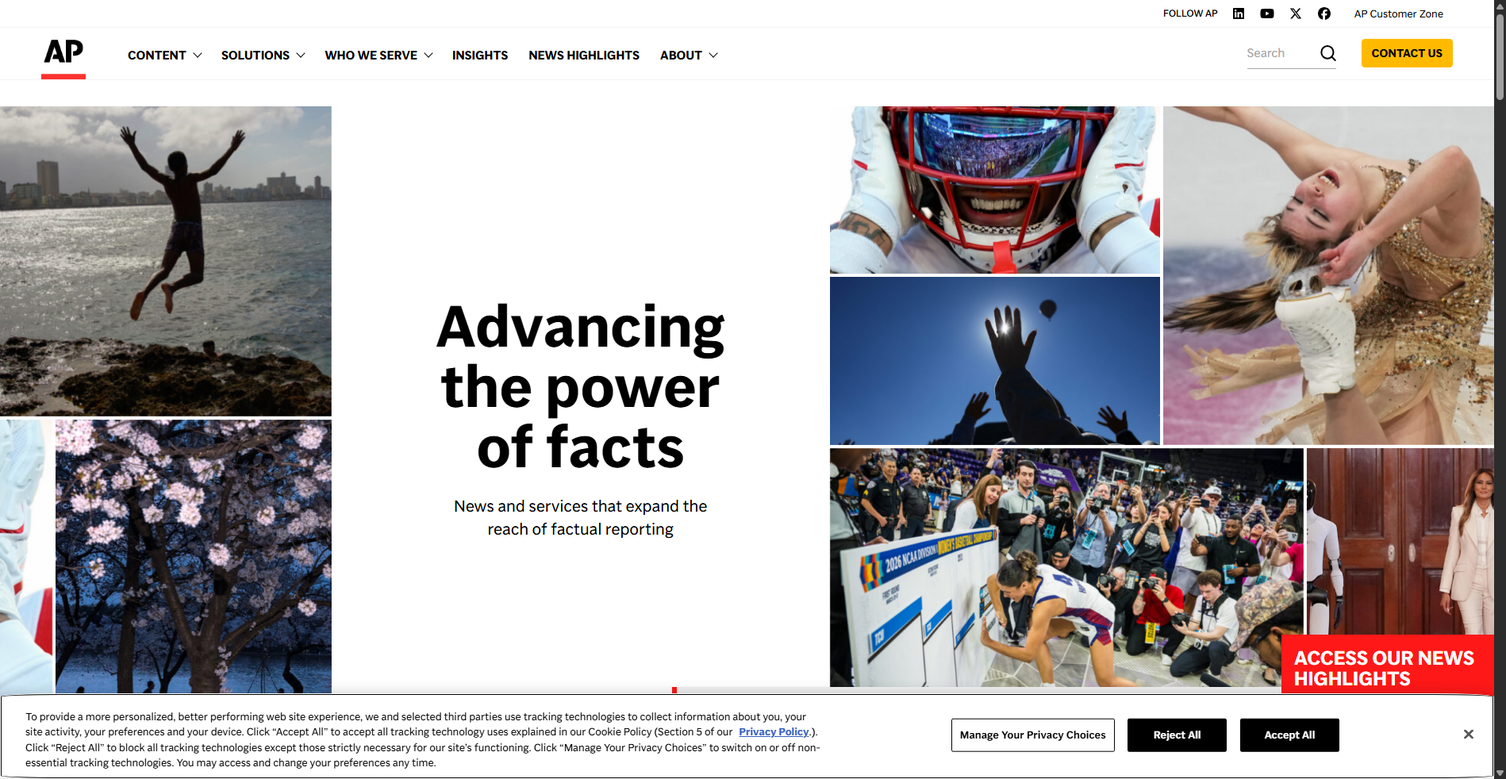general_button: (822, 708, 1479, 764), (1281, 634, 1494, 729), (1294, 647, 1481, 717), (951, 718, 1115, 751), (1128, 718, 1227, 751), (1240, 718, 1339, 751), (1361, 39, 1453, 68)
general_image: (830, 448, 1303, 729), (1163, 106, 1494, 445), (0, 106, 331, 416), (56, 419, 331, 729), (830, 106, 1160, 274), (830, 277, 1160, 445), (1307, 448, 1494, 729), (0, 419, 53, 729), (41, 28, 86, 79)
general_link: (130, 189, 305, 233), (224, 222, 399, 266), (663, 89, 838, 133), (522, 147, 674, 192), (425, 120, 577, 165), (719, 93, 871, 138), (518, 31, 650, 76), (314, 31, 442, 76), (130, 89, 305, 116), (130, 122, 305, 149), (130, 155, 305, 182), (224, 89, 399, 116), (224, 122, 399, 149), (224, 155, 399, 182), (224, 189, 399, 216), (224, 273, 399, 300), (224, 306, 399, 333), (327, 89, 502, 116), (327, 122, 502, 149), (327, 155, 502, 182), (327, 189, 502, 216), (327, 222, 502, 249), (663, 139, 838, 166), (663, 173, 838, 200), (663, 206, 838, 233), (663, 239, 838, 266), (663, 273, 838, 300), (211, 31, 314, 76), (117, 31, 211, 76), (331, 93, 484, 120), (331, 120, 484, 147), (331, 147, 484, 174), (331, 174, 484, 201), (331, 156, 484, 183), (331, 192, 484, 219), (331, 219, 484, 246), (331, 246, 484, 273), (615, 93, 768, 120), (615, 120, 768, 147), (615, 147, 768, 174), (528, 102, 681, 129), (528, 138, 681, 165), (528, 165, 681, 192), (522, 93, 674, 120), (522, 120, 674, 147), (522, 147, 674, 174), (522, 192, 674, 219), (522, 219, 674, 246), (425, 93, 577, 120), (425, 120, 577, 147), (425, 147, 577, 174), (719, 138, 871, 165), (719, 165, 871, 192), (864, 93, 1016, 120), (650, 31, 727, 76), (442, 31, 518, 76), (1345, 0, 1453, 27), (41, 28, 86, 79), (739, 725, 809, 739), (1230, 7, 1246, 20), (1259, 7, 1275, 20), (1316, 7, 1332, 20), (1288, 7, 1303, 20), (0, 84, 1, 85)
icon_close: (1451, 717, 1486, 752)
icon_menu: (496, 147, 687, 192), (693, 93, 884, 138), (400, 120, 590, 165), (130, 189, 305, 233), (224, 222, 399, 266), (663, 89, 838, 133), (518, 31, 650, 76), (314, 31, 442, 76), (496, 93, 687, 120), (496, 120, 687, 147), (496, 147, 687, 174), (496, 192, 687, 219), (496, 219, 687, 246), (693, 138, 884, 165), (693, 165, 884, 192), (838, 93, 1029, 120), (306, 93, 496, 120), (306, 120, 496, 147), (306, 147, 496, 174), (306, 174, 496, 201), (306, 156, 496, 183), (306, 192, 496, 219), (306, 219, 496, 246), (306, 246, 496, 273), (400, 93, 590, 120), (590, 93, 780, 120), (400, 120, 590, 147), (590, 120, 780, 147), (400, 147, 590, 174), (590, 147, 780, 174), (503, 102, 693, 129), (503, 138, 693, 165), (503, 165, 693, 192), (425, 125, 565, 160), (522, 152, 661, 187), (719, 98, 858, 133), (130, 89, 305, 116), (130, 122, 305, 149), (130, 155, 305, 182), (224, 89, 399, 116), (224, 122, 399, 149), (224, 155, 399, 182), (224, 189, 399, 216), (224, 273, 399, 300), (224, 306, 399, 333), (327, 89, 502, 116), (327, 122, 502, 149), (327, 155, 502, 182), (327, 189, 502, 216), (327, 222, 502, 249), (663, 139, 838, 166), (663, 173, 838, 200), (663, 206, 838, 233), (663, 239, 838, 266), (663, 273, 838, 300), (211, 31, 314, 76), (117, 31, 211, 76), (650, 31, 727, 76), (442, 31, 518, 76), (1345, 0, 1453, 27), (143, 193, 221, 228), (236, 227, 308, 262), (675, 93, 747, 128), (425, 98, 557, 116), (864, 98, 988, 116), (331, 125, 452, 143), (331, 250, 452, 268), (236, 193, 357, 211), (529, 47, 640, 66), (675, 244, 792, 262), (528, 107, 640, 124), (331, 196, 431, 214), (528, 143, 633, 160), (340, 227, 445, 244), (325, 47, 417, 66), (615, 98, 704, 116), (522, 125, 606, 143), (675, 211, 763, 228), (522, 152, 605, 170), (331, 98, 414, 116), (425, 152, 507, 170), (615, 98, 696, 116), (675, 144, 755, 162), (331, 152, 407, 170), (615, 125, 691, 143), (615, 152, 691, 170), (236, 277, 312, 295), (675, 177, 751, 195), (1354, 6, 1443, 21), (221, 47, 290, 66), (340, 127, 417, 144), (719, 170, 795, 187), (425, 152, 496, 170), (528, 170, 603, 187), (236, 311, 308, 328), (615, 125, 680, 143), (128, 47, 186, 66), (236, 93, 297, 111), (719, 143, 782, 160), (452, 47, 508, 66), (340, 160, 401, 177), (522, 98, 579, 116), (425, 125, 482, 143), (425, 98, 477, 116), (143, 93, 194, 111), (522, 125, 573, 143), (236, 160, 290, 177), (236, 127, 289, 144), (615, 98, 663, 116), (425, 125, 473, 143), (340, 193, 388, 211), (675, 277, 723, 295), (331, 161, 380, 178), (425, 98, 471, 116), (522, 223, 567, 241), (143, 160, 190, 177), (660, 47, 702, 66), (331, 125, 372, 143), (522, 196, 563, 214), (331, 223, 370, 241), (522, 98, 560, 116), (143, 127, 183, 144), (340, 93, 377, 111), (331, 98, 364, 116), (331, 179, 365, 196)
icon_search: (1247, 38, 1336, 68), (1320, 38, 1336, 68), (1320, 45, 1336, 62)
